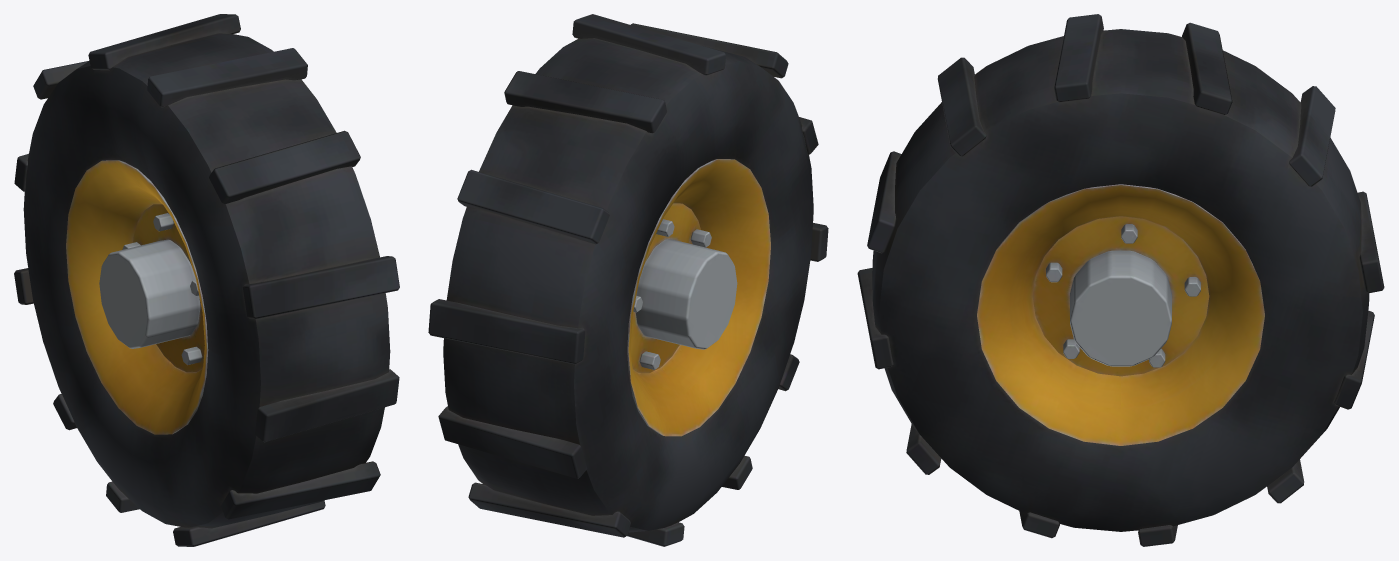
File: wheel-v001.glb
The picture shows the model from 3 angles, left to right: view 1: azimuth 30°, elevation 25°; view 2: azimuth 150°, elevation 25°; view 3: azimuth 270°, elevation 25°; orthographic projection.
Parts seen in each view (by area): view 1: Wheel; view 2: Wheel; view 3: Wheel.
Part boxes in pixels (x1,y1,x2,y2): Wheel: (14,14,399,546); Wheel: (428,14,828,546); Wheel: (857,14,1384,546).
Bounding box in the file's own units: 0.29 × 0.7565 × 0.7754.
Materials: 1 (1 with a texture image).
